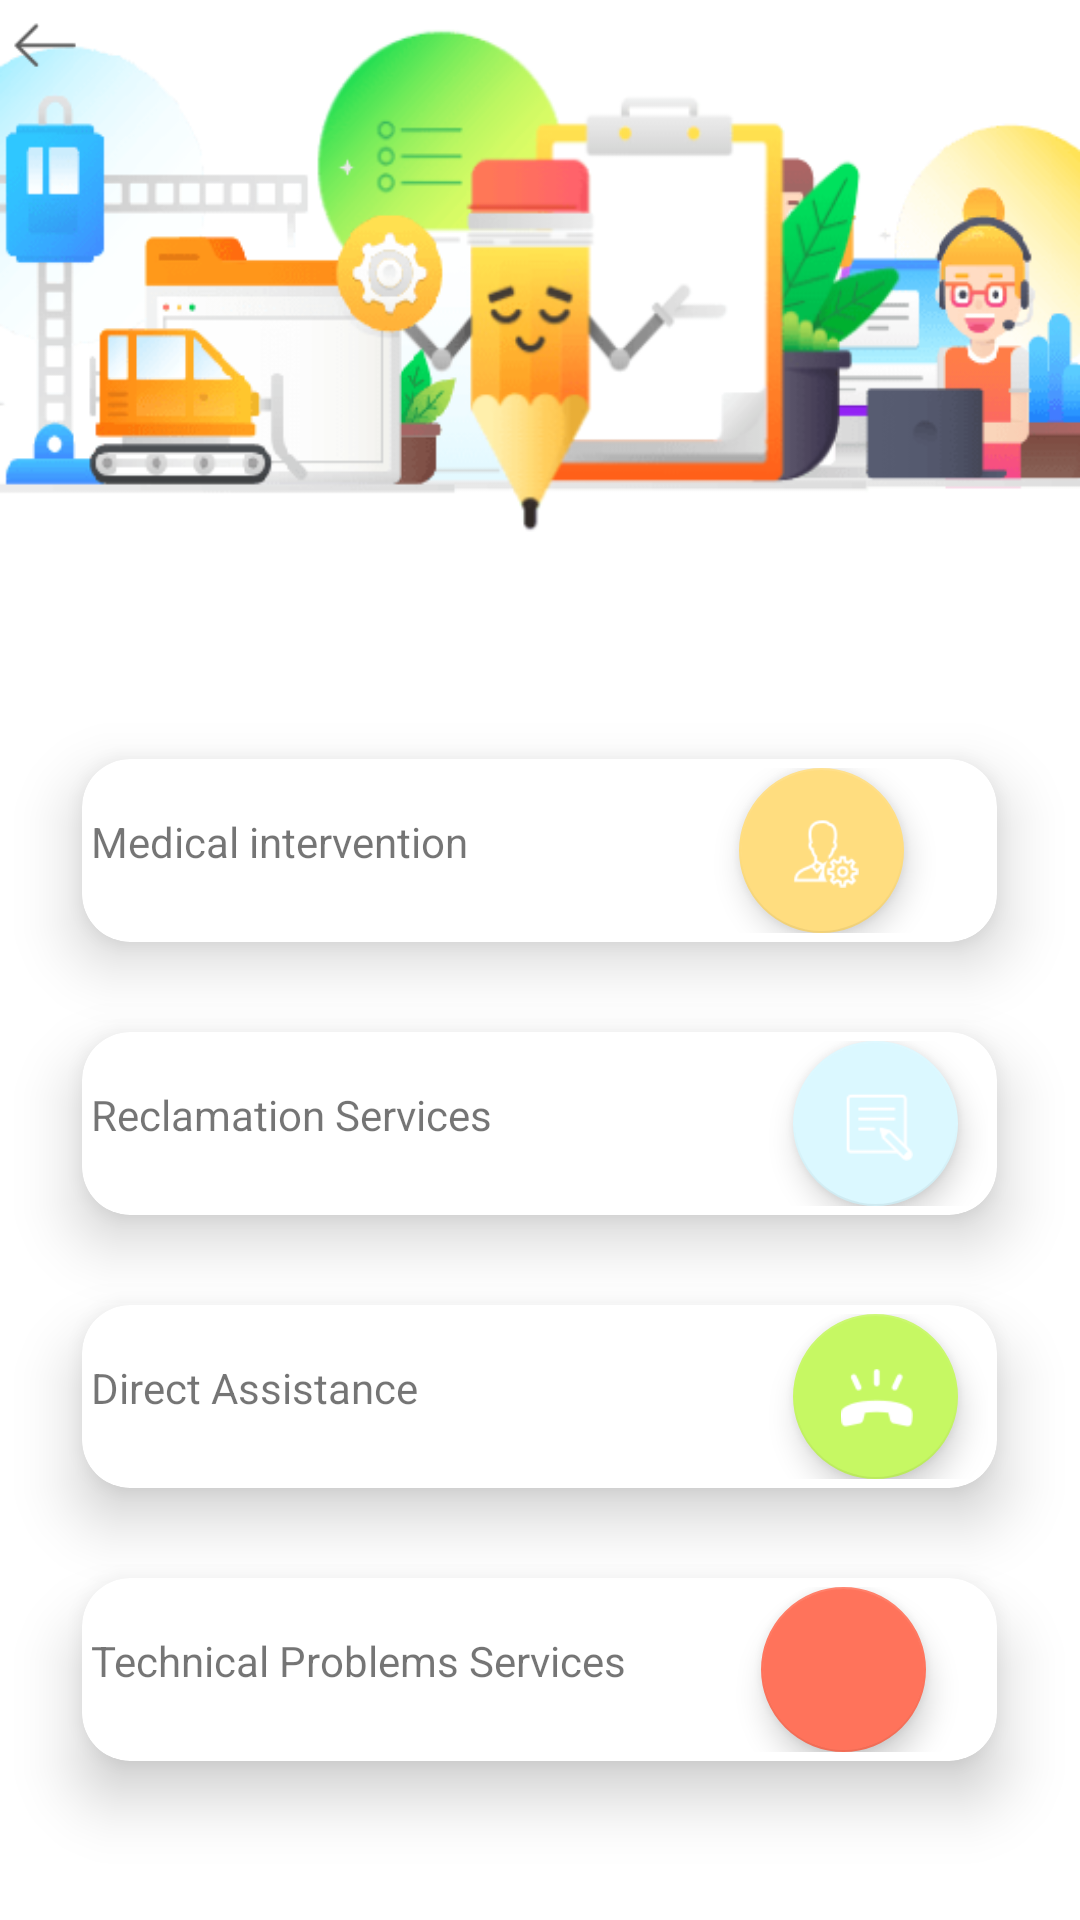

Icon click points for this 1080px×1920px phone screenshot, format (x=x, y=y):
appel: (x=875, y=1396)
intervention: (x=821, y=850)
reclam: (x=875, y=1123)
